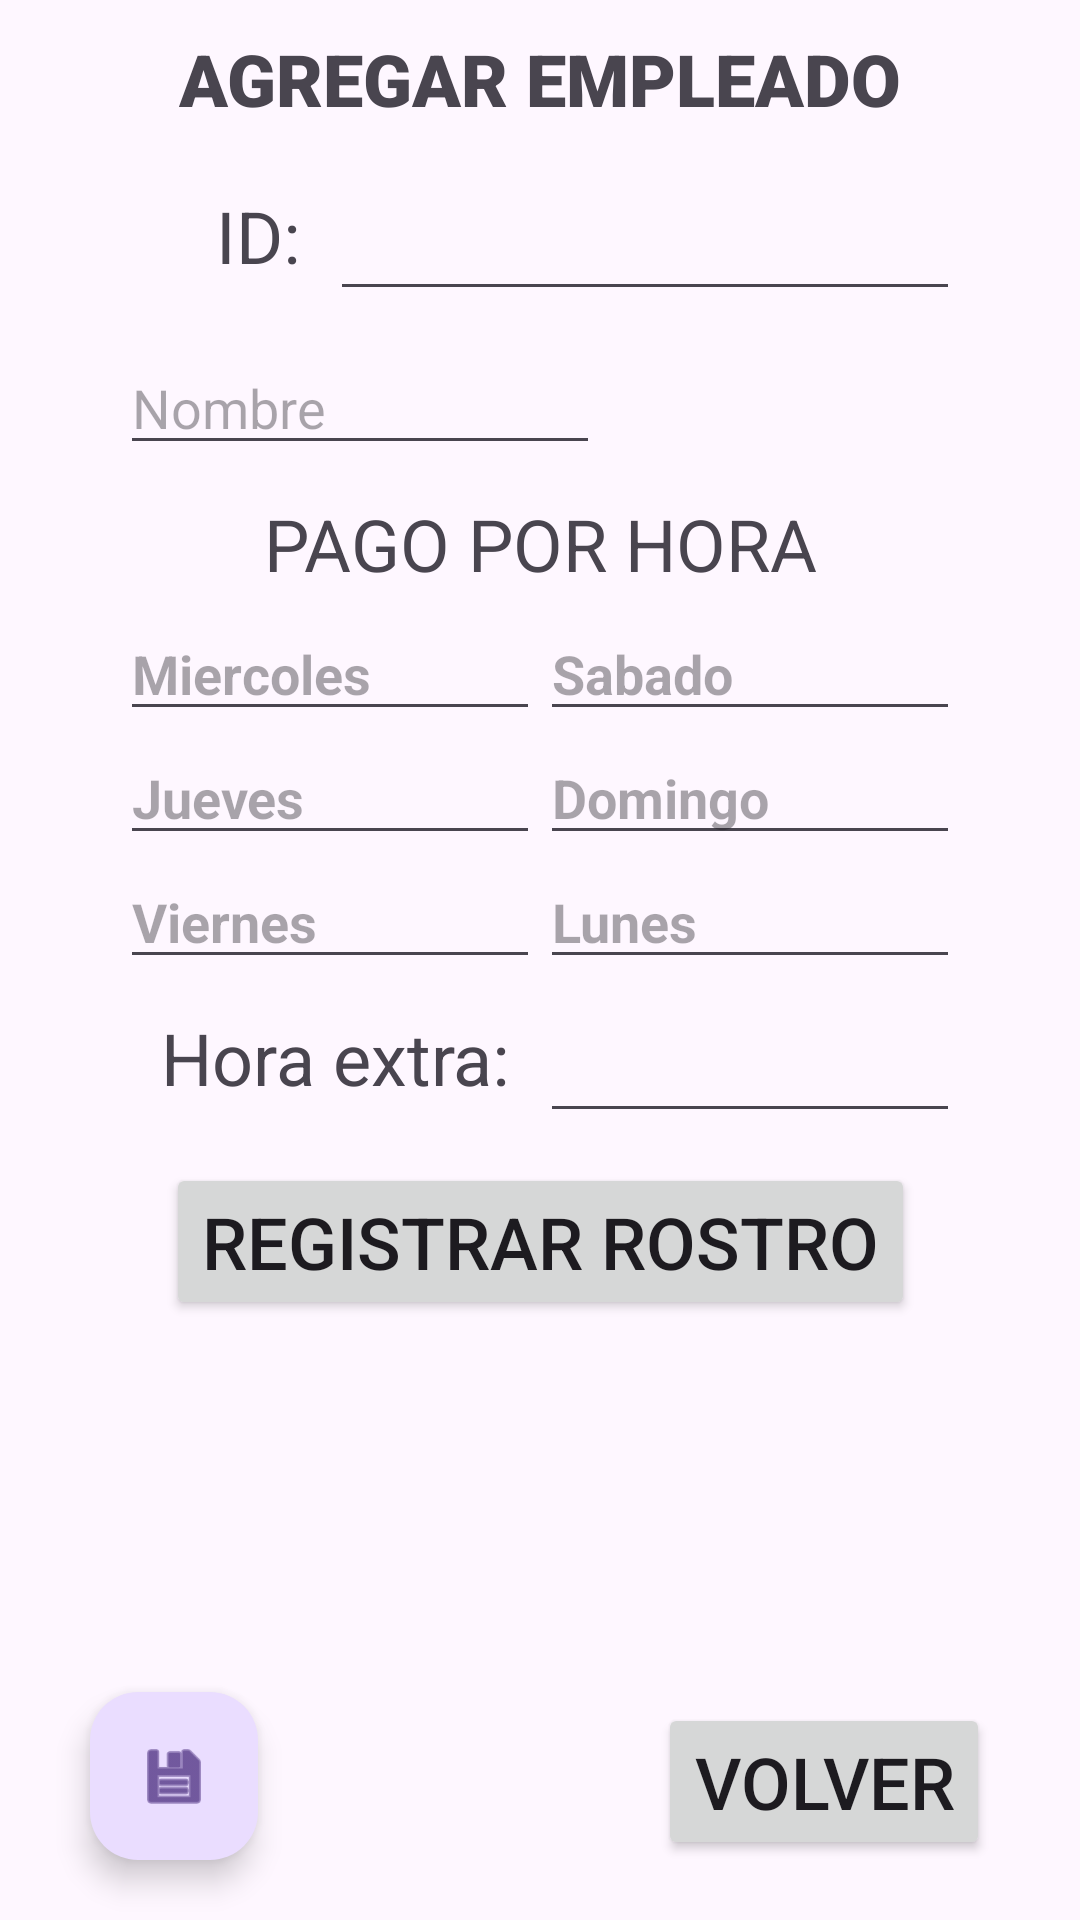

Named icons in this screenshot (1080×1920) and their centers, (x,y):
save: (174,1776)
